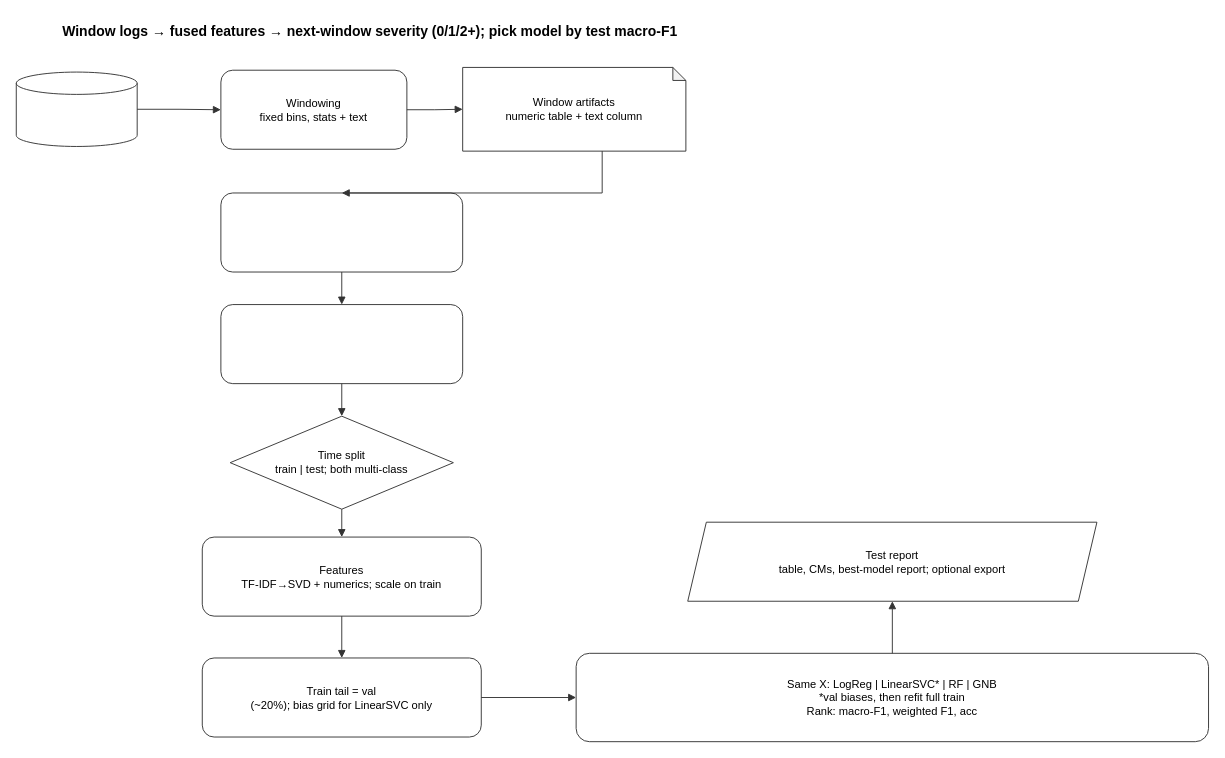
Image size: 1225x758. Some labels were removed from this diagram. The shapes that lost their labels are listed below. From the top down, each one's centre as x and y in pixels, then its label:
pixel 76 108: Raw logs (time-ordered)
pixel 341 232: Merge & prep sort by time; calendar + lag/roll feats
pixel 341 344: Label: next window severity 0 / 1 / 2+; drop NA
